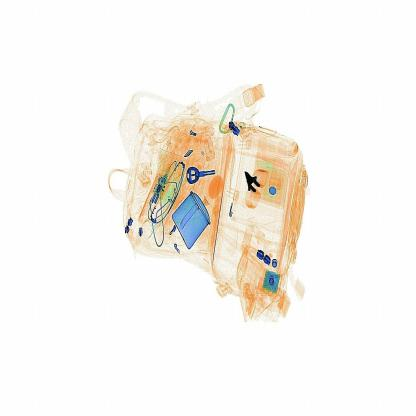gun: (236, 164, 282, 221)
